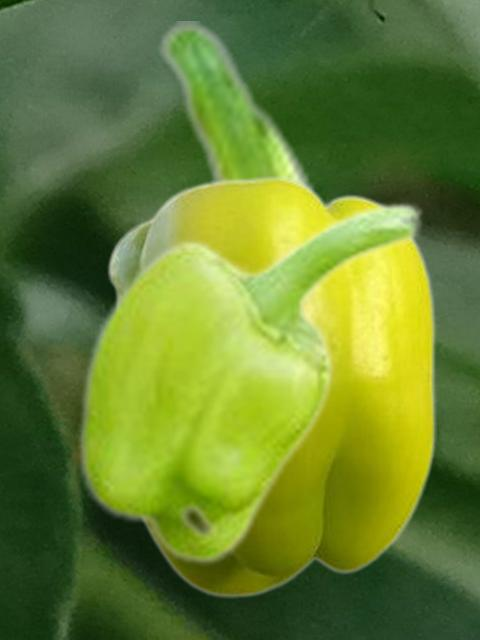bell_pepper: (106, 174, 435, 597), (76, 199, 424, 565), (146, 21, 329, 199)
